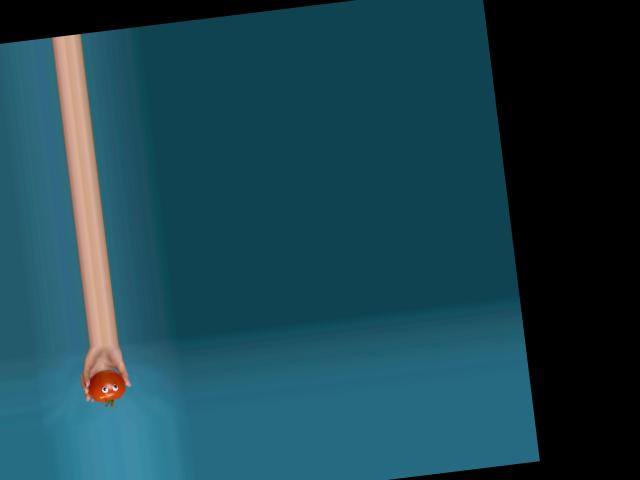tomato: (86, 367, 127, 404)
